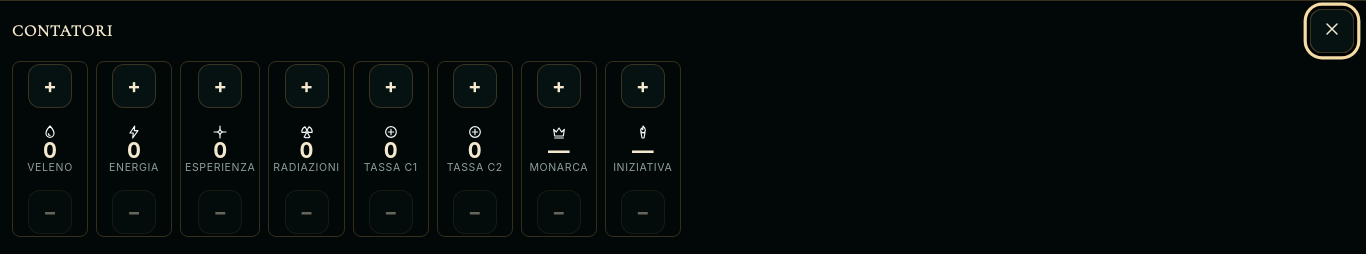
Scenario: Contatori drawer (R2 §5) › moves Commander tax by two, per slot with Partner
Click the button named "Aggiungi 2 alla tassa del Comandante 2 di Giocatore 1" at (475, 86), box 453,64 -> 497,108
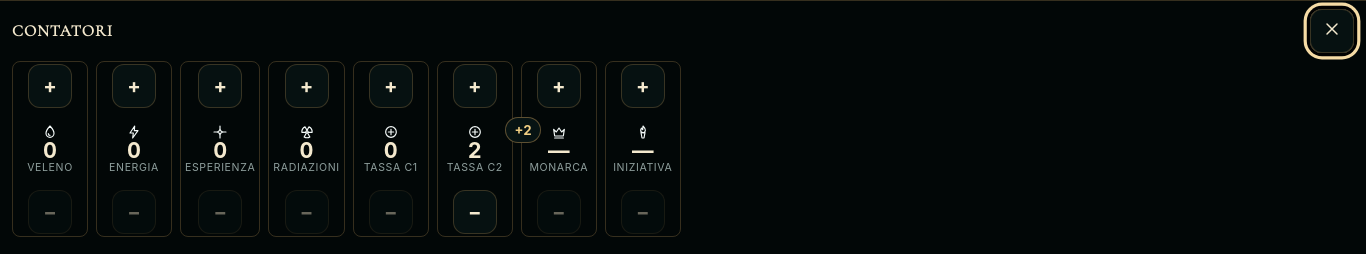
Expected: the 5th text with test id "counter-value" reads "0", 384,137 -> 398,163
Expected: the text with test id "counter-value" reads "2", 468,137 -> 482,163
